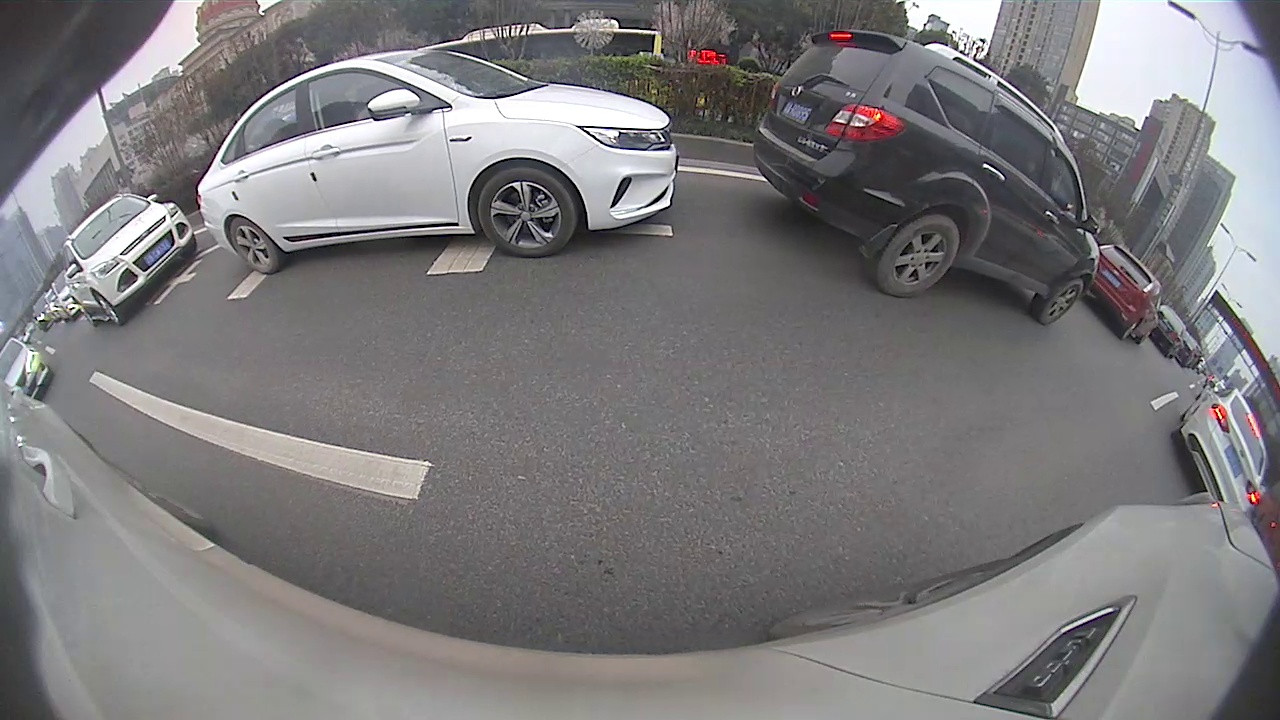car: (195, 47, 683, 271), (751, 29, 1100, 327), (66, 190, 197, 328), (1171, 387, 1269, 512), (1088, 242, 1163, 345), (2, 338, 51, 402)
front: (479, 167, 579, 261), (1035, 275, 1085, 325), (91, 289, 128, 327)
rear: (874, 213, 962, 300), (227, 216, 282, 273)
